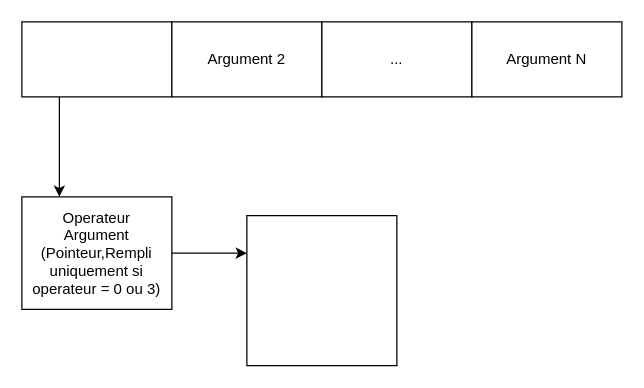
Some shapes in this 644 by 388 pixel diagram are drawn without their labels. The shapes that lost their labels are listed below. From the top down, each one's box as (x1, y1, x2, y2) in pixels, then its label:
(21, 21, 172, 97): Argument 1
(246, 214, 397, 366): Opérateur 0=Condition 1=AND 2=OR 3=NOT
